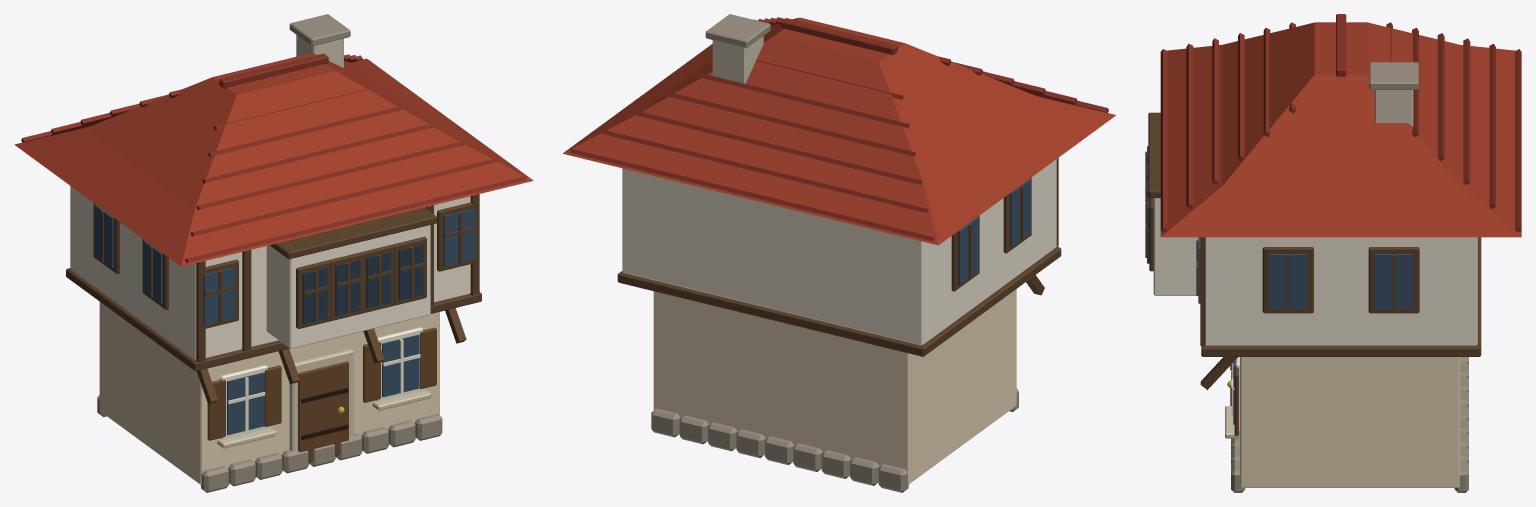
The model's file is house_ottoman.glb.
3 views of the same model, side by side, from view 1: azimuth 30°, elevation 25°; view 2: azimuth 150°, elevation 25°; view 3: azimuth 270°, elevation 25° (orthographic). The views are drawn at different scales.
Visible parts, largest first — view 1: house_ottoman; view 2: house_ottoman; view 3: house_ottoman.
Part boxes in pixels (box(x1,y1,x2,y2)): house_ottoman: box(14, 14, 533, 492); house_ottoman: box(563, 14, 1116, 492); house_ottoman: box(1145, 14, 1521, 492).
Size of the model in its own units: 2.5 by 2.49 by 2.14.
